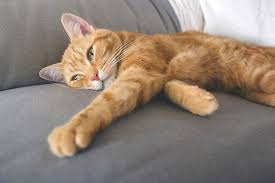cat: (33, 6, 139, 95)
